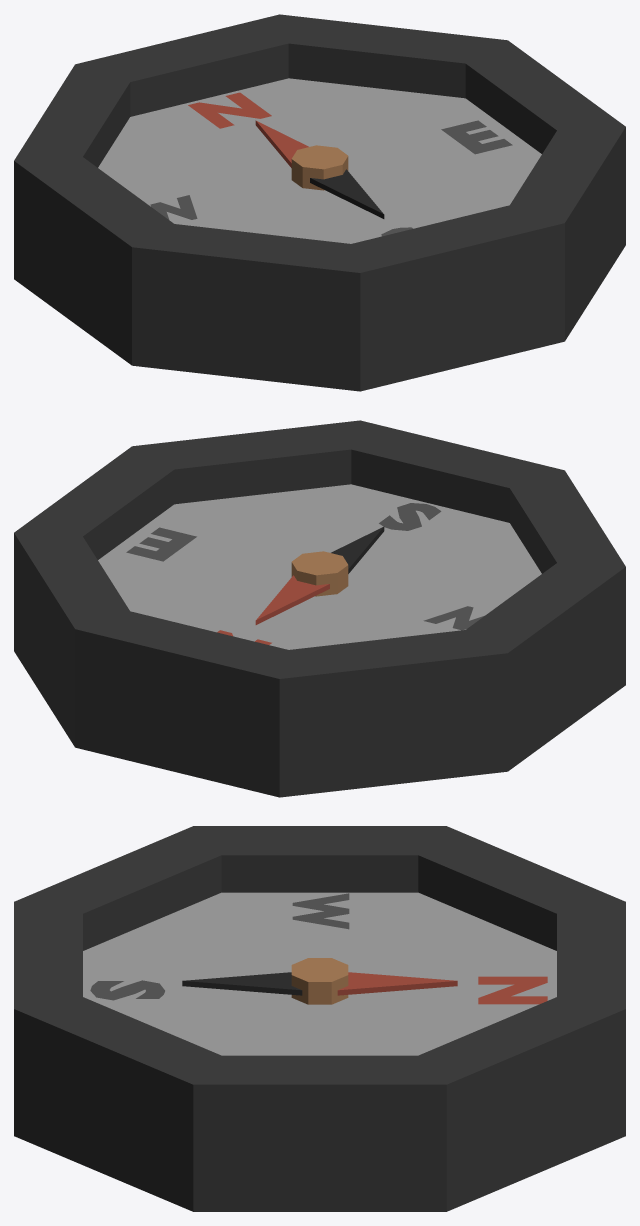
File: Compass_01.fbx
The picture shows the model from 3 angles, top to bottom: view 1: azimuth 30°, elevation 25°; view 2: azimuth 150°, elevation 25°; view 3: azimuth 270°, elevation 25°; orthographic projection. The views are drawn at different scales.
Parts seen in each view (by area): view 1: Compass_01, Compass_01_2; view 2: Compass_01, Compass_01_2; view 3: Compass_01, Compass_01_2.
Part boxes in pixels (x1,y1,x2,y2): Compass_01: [14, 14, 625, 391]; Compass_01_2: [255, 120, 384, 218]; Compass_01: [14, 420, 625, 797]; Compass_01_2: [255, 526, 384, 624]; Compass_01: [14, 826, 625, 1211]; Compass_01_2: [182, 972, 457, 995].
Bounding box in the file's own units: 10.71 × 2.45 × 10.71.
